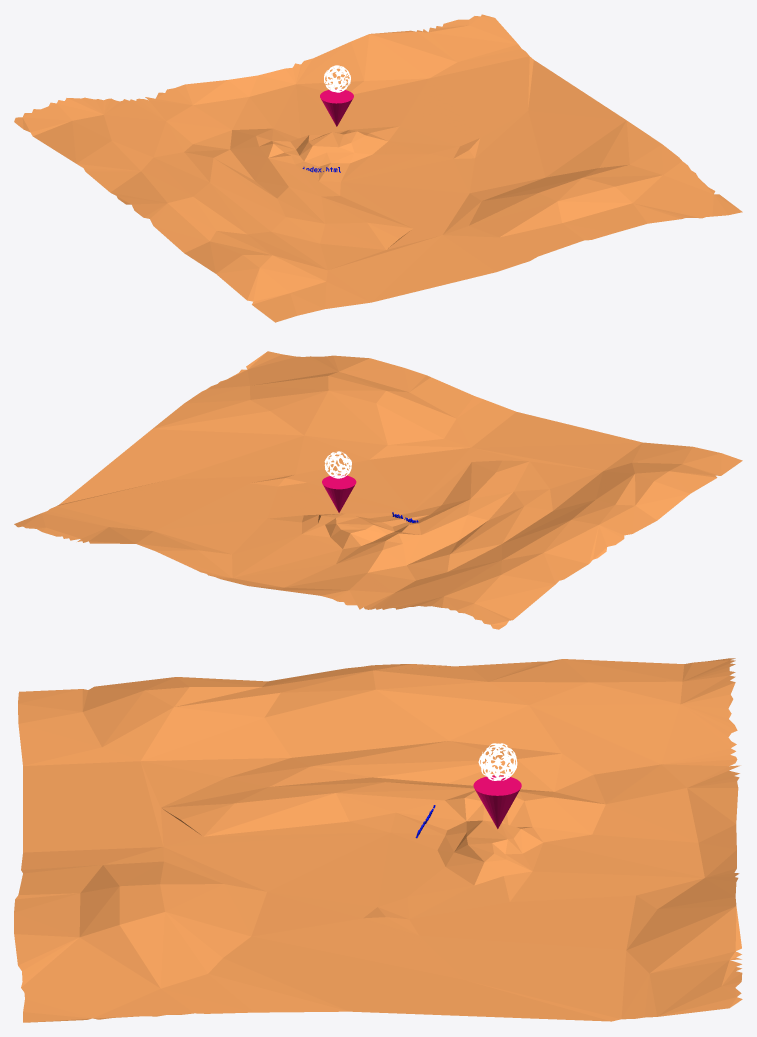
The model's file is index.glb.
3 renders of one model, top to bottom at view 1: azimuth 30°, elevation 25°; view 2: azimuth 150°, elevation 25°; view 3: azimuth 270°, elevation 25°, orthographic. The views are drawn at different scales.
Parts seen in each view (by area): view 1: Plane, Cone, Icosphere; view 2: Plane, Cone, Icosphere; view 3: Plane, Cone, Icosphere.
Part boxes in pixels (x1,y1,x2,y2): Plane: (14, 14, 742, 322); Cone: (320, 89, 353, 126); Icosphere: (324, 65, 350, 92); Plane: (14, 351, 742, 629); Cone: (322, 475, 356, 512); Icosphere: (324, 451, 351, 478); Plane: (14, 658, 742, 1022); Cone: (473, 775, 521, 828); Icosphere: (478, 743, 517, 780).
Size of the model in its own units: 173 by 27.94 by 161.
